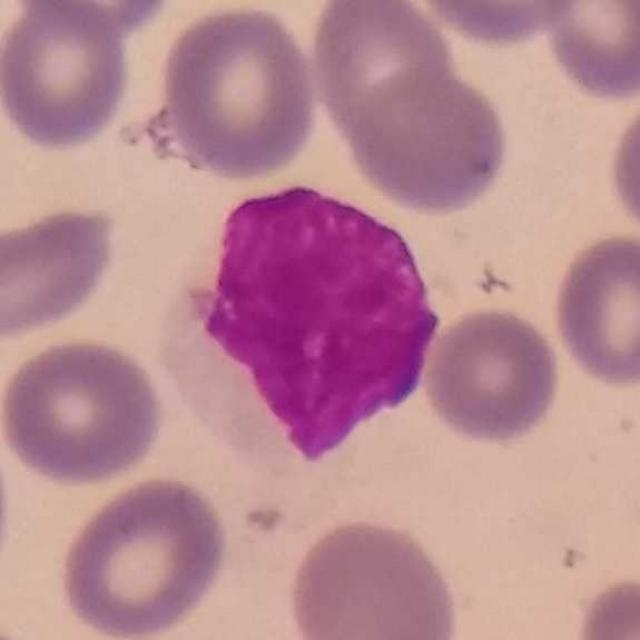Monocyte: (166, 182, 445, 499)
RBC: (150, 0, 323, 184), (54, 471, 232, 640), (306, 0, 466, 183), (333, 58, 515, 217), (0, 332, 169, 488), (283, 512, 464, 640), (420, 302, 566, 448), (1, 0, 136, 155), (0, 200, 121, 346), (547, 229, 640, 391), (534, 0, 640, 105), (404, 0, 584, 48), (8, 0, 181, 39), (603, 82, 640, 247), (571, 571, 640, 640)
